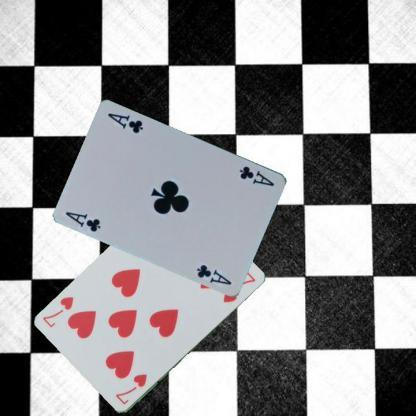7h: (112, 372, 148, 406)
Ac: (236, 162, 276, 188), (63, 209, 103, 233)
